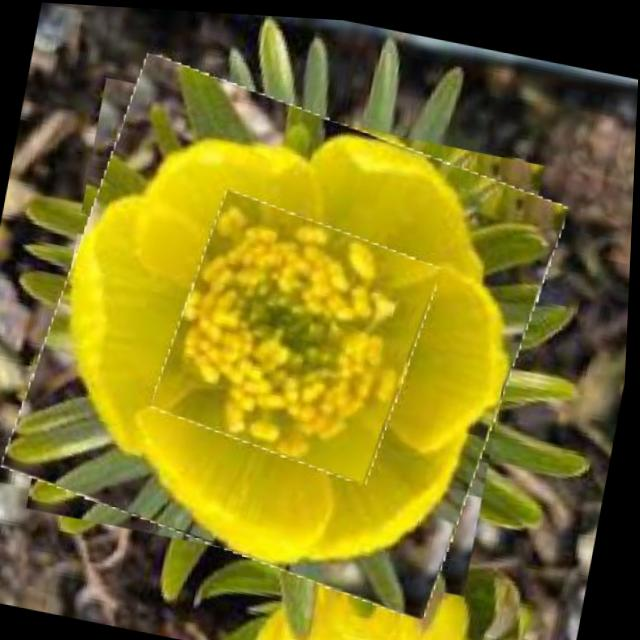Flower: (10, 54, 568, 614), (155, 188, 442, 480)
